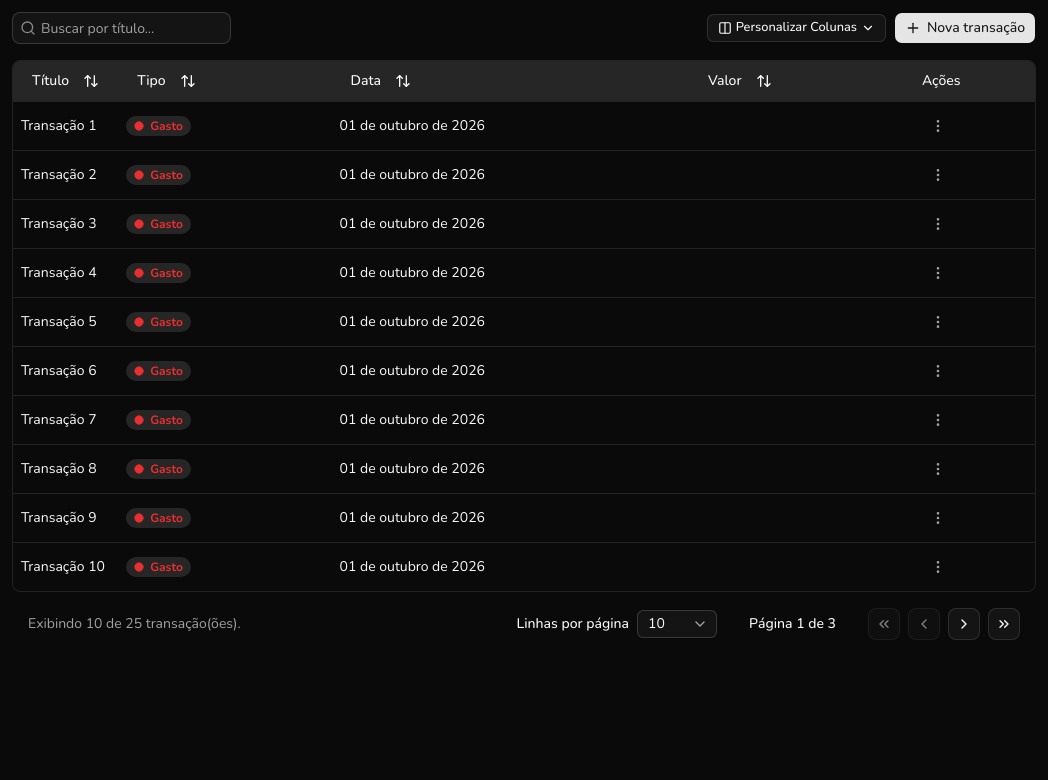
TransactionsTable Component › paginates transaction records with page controls
Expected: the text "Página 1 de 3" is shown, top-left (749, 614), bottom-right (836, 634)
Expected: the text "Transação 1" is shown, top-left (13, 101), bottom-right (118, 150)
Click the button named "próxima página".
click(964, 624)  # box top-left (948, 608), bottom-right (980, 640)
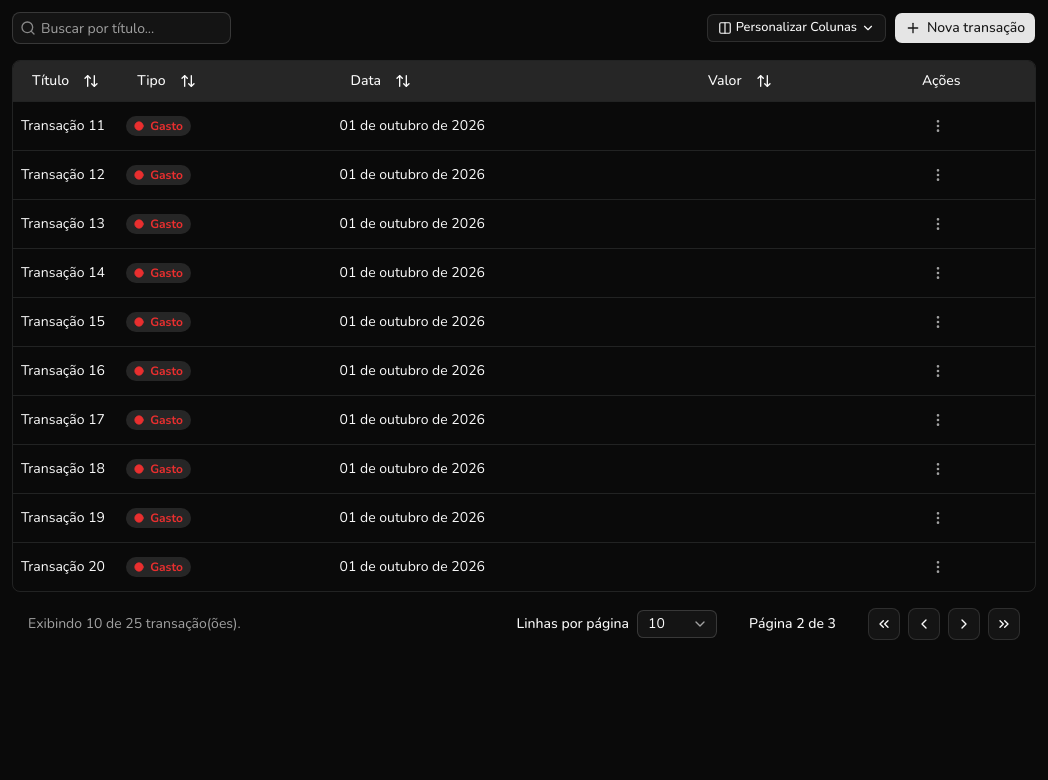
Now the text "Página 2 de 3" is shown, box top-left (749, 614), bottom-right (836, 634)
Now the text "Transação 11" is shown, box top-left (13, 101), bottom-right (118, 150)
